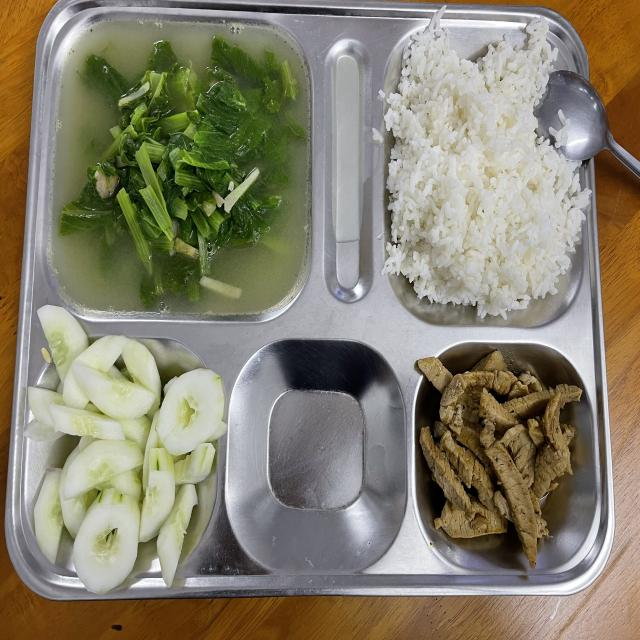canh cai: (48, 18, 311, 318)
com: (380, 20, 590, 319)
dua leo: (28, 305, 226, 594)
